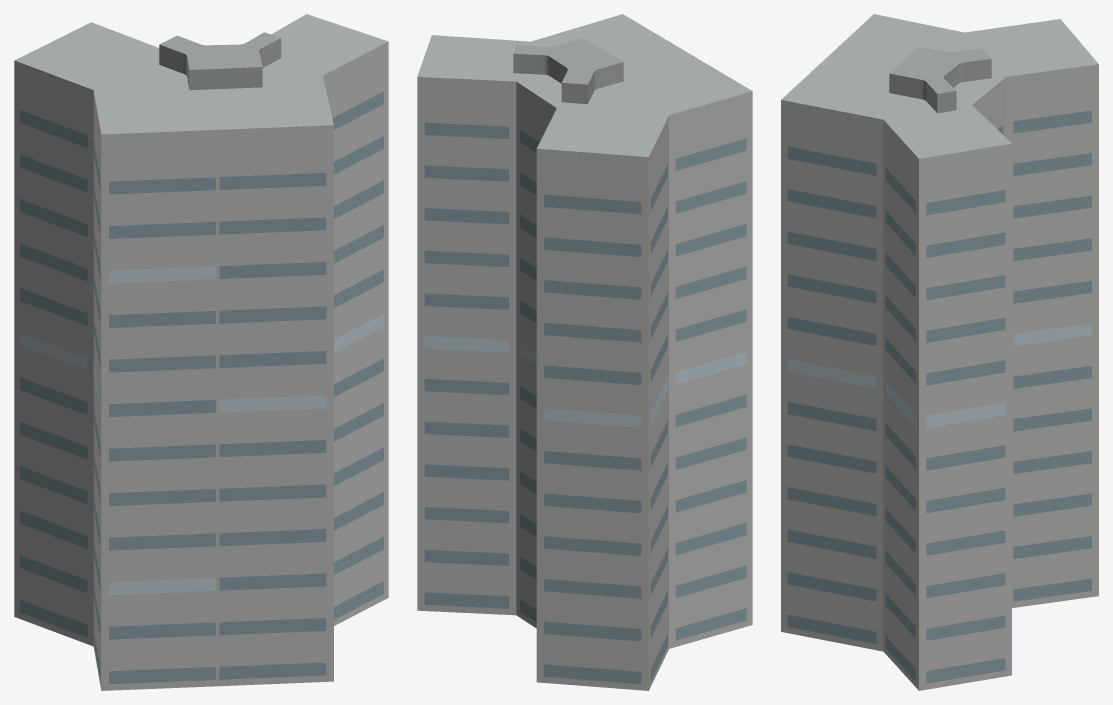
The model's file is fallback-jamsil-els-157.glb.
3 renders of one model, left to right at view 1: azimuth 30°, elevation 25°; view 2: azimuth 150°, elevation 25°; view 3: azimuth 270°, elevation 25°, orthographic. The views are drawn at different scales.
Parts seen in each view (by area): view 1: fallback-jamsil-els-157; view 2: fallback-jamsil-els-157; view 3: fallback-jamsil-els-157.
Boxes of the visible parts, x1,y1,x2,y2 form: fallback-jamsil-els-157: (14, 14, 388, 690); fallback-jamsil-els-157: (417, 14, 752, 690); fallback-jamsil-els-157: (781, 14, 1098, 690).
Size of the model in its own units: 38.35 by 68 by 35.52.
